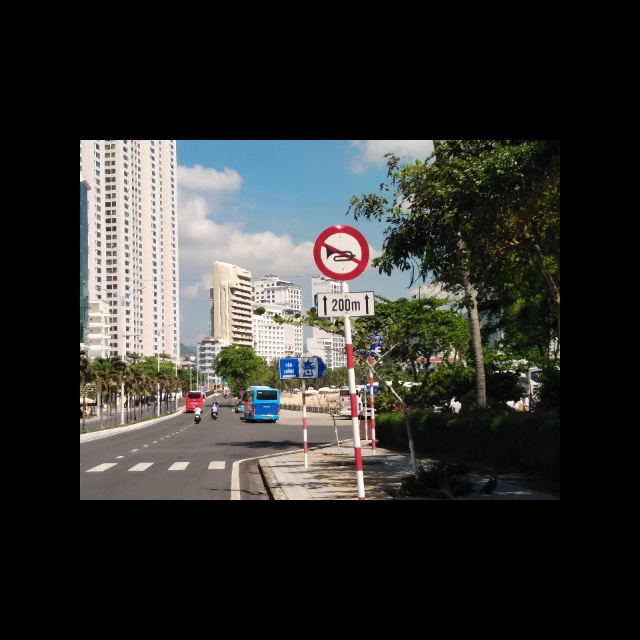Cấm bấm còi: (312, 225, 369, 280)
